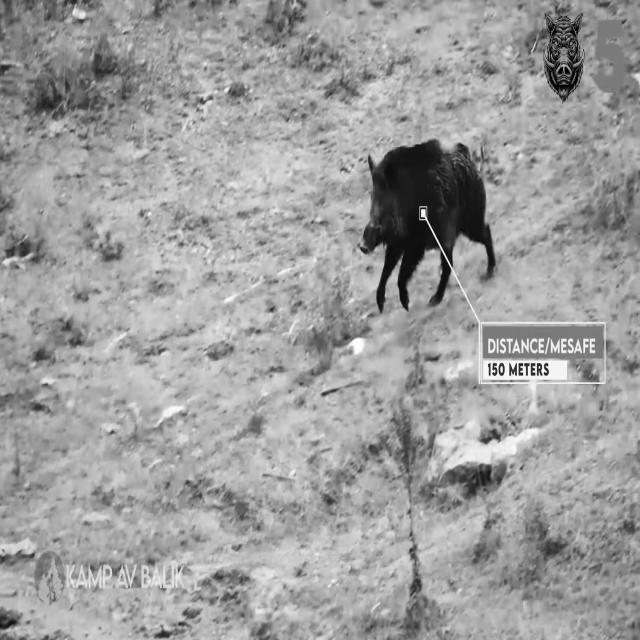boar: (360, 139, 495, 311), (544, 11, 586, 100)
